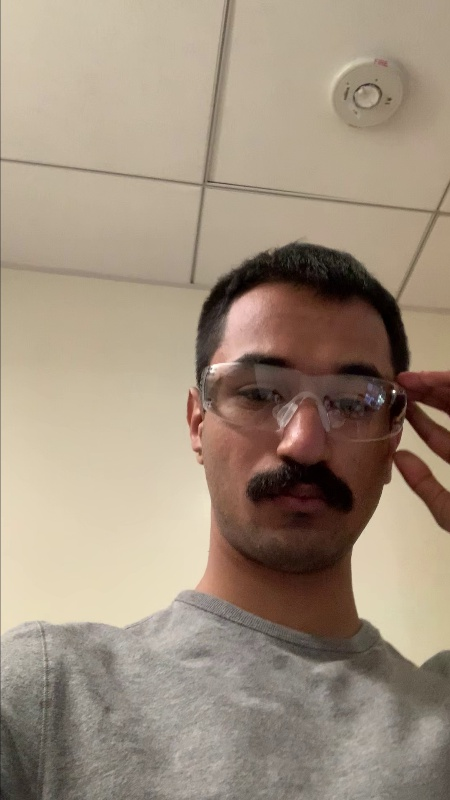glasses: (204, 354, 410, 449)
